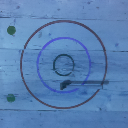Axe Tip: (60, 81, 71, 84)
